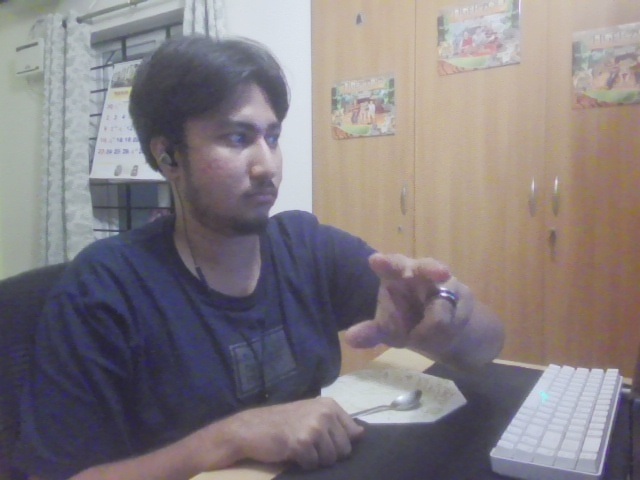no: (342, 239, 500, 373)
